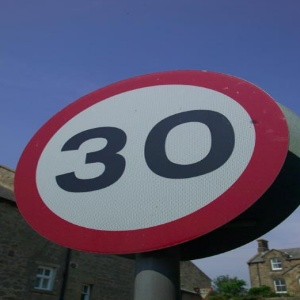30 speed: (15, 70, 289, 255)
